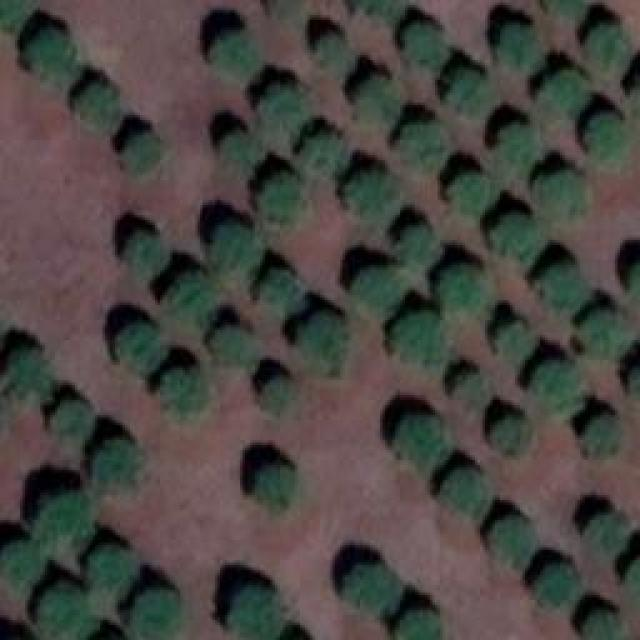Tree: (88, 438, 143, 501), (35, 580, 93, 638), (83, 543, 138, 603), (128, 585, 188, 640), (35, 487, 90, 545), (150, 363, 205, 418), (222, 587, 279, 640), (393, 310, 448, 363), (498, 20, 548, 78), (348, 75, 401, 128), (295, 313, 348, 366), (485, 515, 538, 568), (172, 270, 220, 328), (113, 323, 163, 378), (25, 28, 75, 81), (533, 168, 586, 218), (578, 310, 628, 363), (490, 210, 545, 258), (440, 263, 488, 316), (205, 33, 255, 83), (210, 225, 260, 275), (343, 560, 393, 610), (260, 173, 305, 228), (397, 413, 445, 463), (247, 460, 295, 508), (350, 170, 400, 215), (443, 468, 488, 518), (543, 68, 588, 118), (448, 67, 493, 115), (395, 123, 443, 168), (535, 562, 580, 610), (13, 345, 56, 395), (0, 535, 42, 585), (260, 85, 303, 133), (530, 360, 573, 408), (75, 83, 120, 128), (120, 225, 160, 275), (400, 23, 443, 68), (585, 20, 623, 70), (582, 115, 620, 165), (298, 130, 341, 173), (50, 400, 95, 440), (495, 320, 535, 363), (585, 510, 628, 550), (213, 325, 258, 363), (358, 265, 393, 313), (257, 273, 295, 316), (448, 175, 491, 213), (540, 263, 580, 303), (583, 415, 623, 455), (125, 135, 163, 175), (488, 415, 528, 453), (398, 223, 433, 266), (580, 607, 625, 640), (310, 30, 348, 68), (452, 370, 490, 408), (220, 127, 255, 165), (260, 375, 293, 413), (402, 610, 440, 640), (498, 123, 528, 158)
